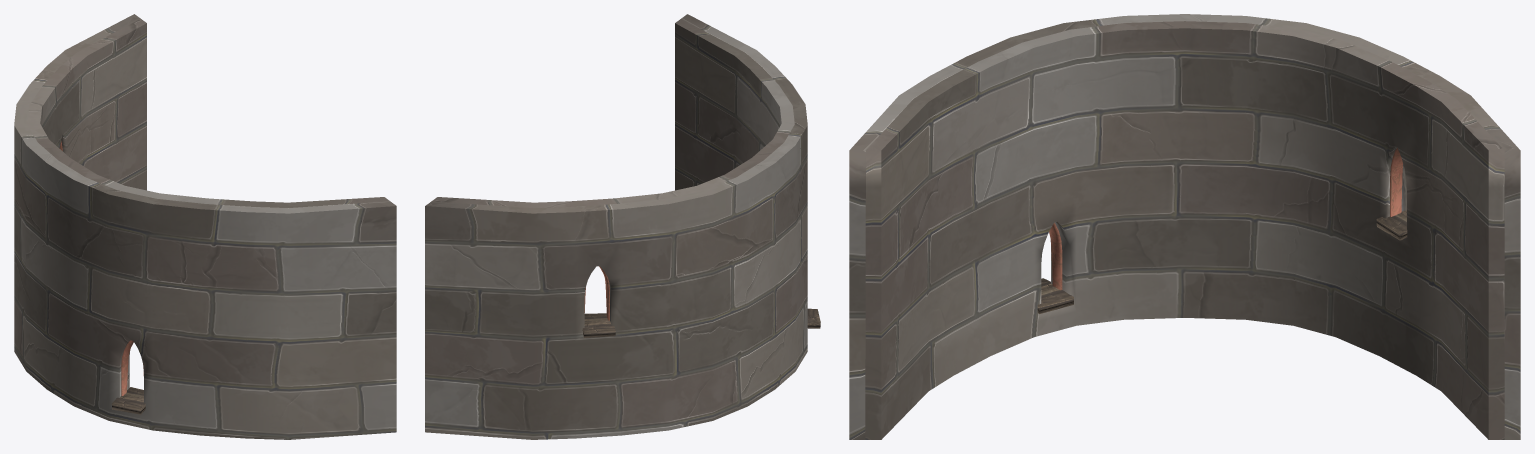
File: wall_tower_windows_tiny_1.fbx
3 renders of one model, left to right at view 1: azimuth 30°, elevation 25°; view 2: azimuth 150°, elevation 25°; view 3: azimuth 270°, elevation 25°, orthographic. The views are drawn at different scales.
Parts seen in each view (by area): view 1: polySurface1005, tower_wall_windows_tiny:tower_wall_windows_tiny:pCube4, polySurface1006; view 2: polySurface1005, tower_wall_windows_tiny:tower_wall_windows_tiny:pCube4; view 3: polySurface1005, polySurface1006, tower_wall_windows_tiny:tower_wall_windows_tiny:pCube4.
Boxes of the visible parts, x1,y1,x2,y2 form: polySurface1005: (14, 14, 396, 439); tower_wall_windows_tiny:tower_wall_windows_tiny:pCube4: (111, 387, 145, 414); polySurface1006: (59, 141, 143, 395); polySurface1005: (425, 14, 807, 439); tower_wall_windows_tiny:tower_wall_windows_tiny:pCube4: (582, 308, 820, 338); polySurface1005: (849, 14, 1520, 439); polySurface1006: (1049, 147, 1402, 290); tower_wall_windows_tiny:tower_wall_windows_tiny:pCube4: (1037, 210, 1407, 314).
Bounding box in the file's own units: 5.05 × 5.01 × 10.51.
